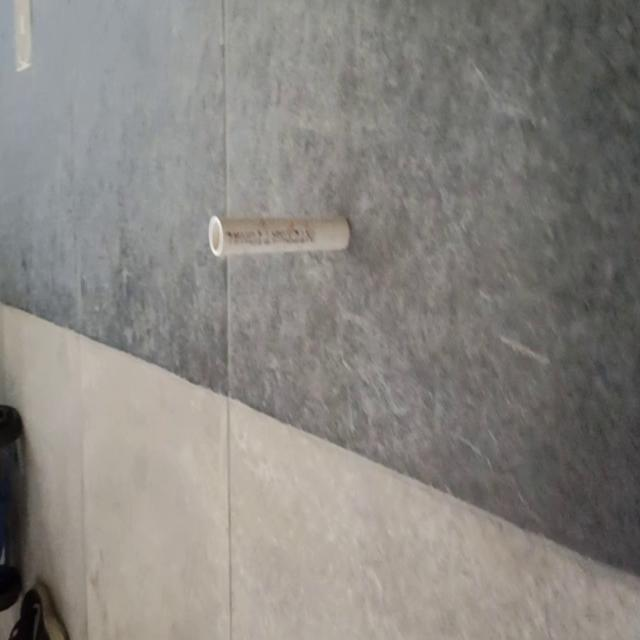Cube: (207, 212, 351, 258)
